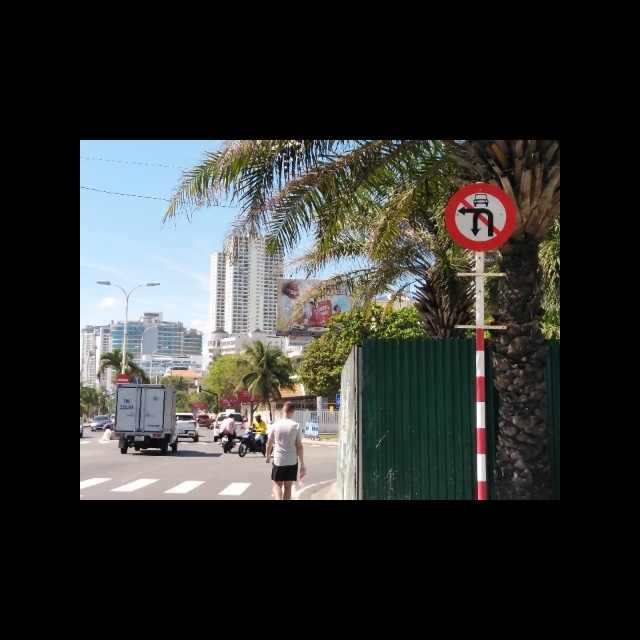Cấm xe ô tô quay đầu và rẽ trái: (445, 184, 517, 250)
